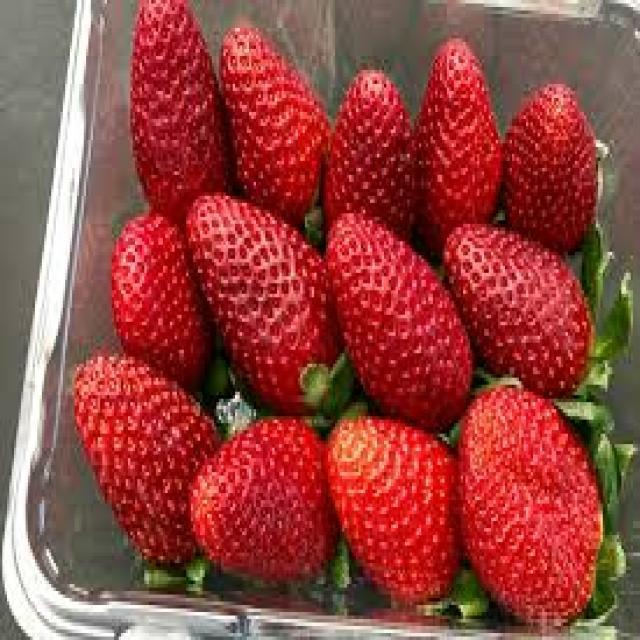Strawberry: (456, 381, 603, 626), (184, 189, 340, 413), (323, 210, 472, 430), (72, 349, 219, 566), (324, 412, 464, 606), (442, 220, 594, 396), (186, 412, 338, 588), (217, 21, 331, 228), (128, 0, 228, 220), (410, 35, 502, 252), (110, 206, 210, 388), (500, 80, 598, 252), (321, 66, 417, 238)
